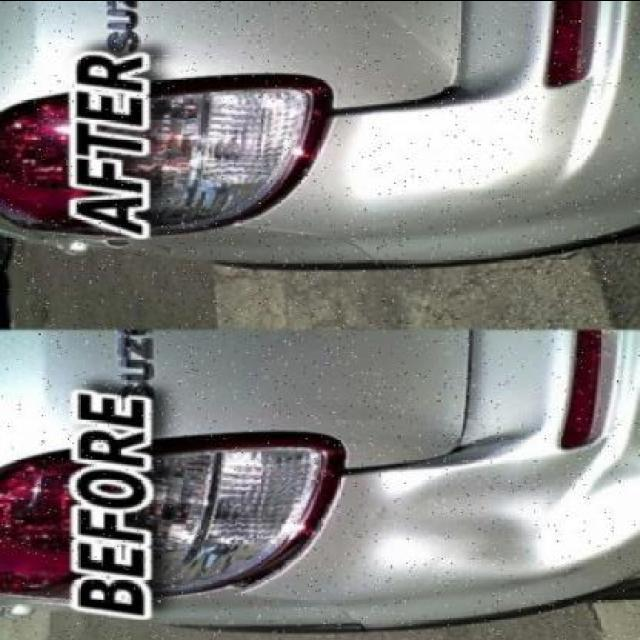rear-bumper-dent: (189, 330, 640, 640)
